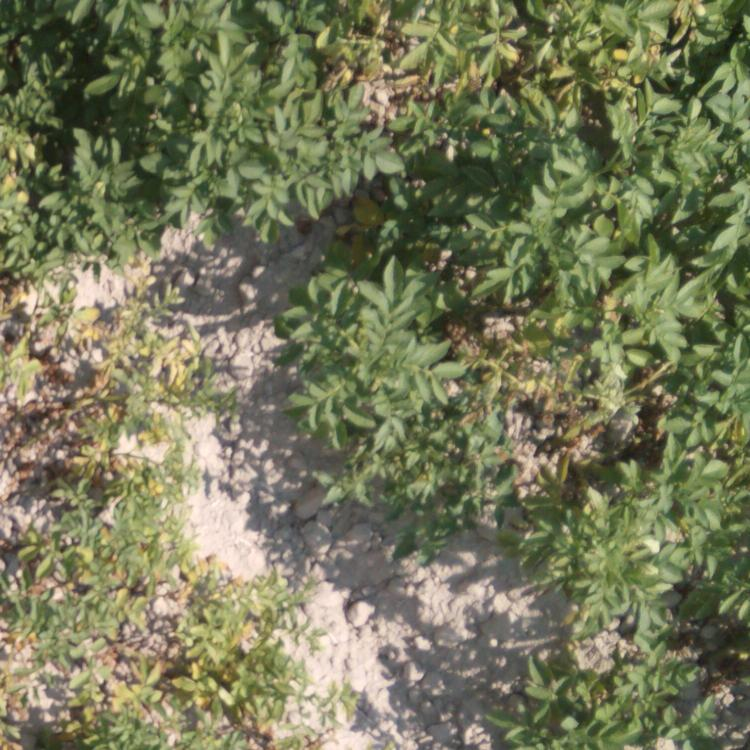healthy: (387, 1, 744, 166), (419, 173, 730, 344), (189, 1, 372, 240), (293, 352, 501, 546), (1, 1, 180, 224), (515, 487, 748, 628), (483, 641, 746, 750), (597, 346, 750, 474), (255, 257, 409, 341)
stressed: (1, 235, 189, 471), (173, 555, 329, 745), (1, 481, 170, 632), (8, 642, 172, 750)
